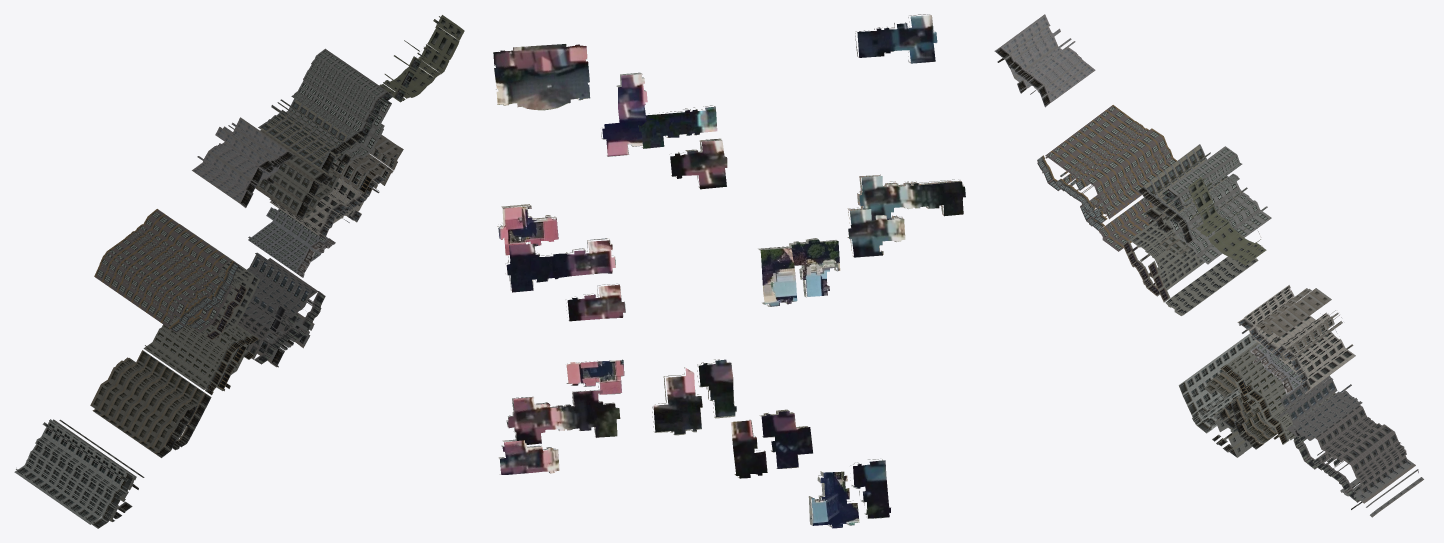
Rendered from tile_LOD4_r3_c15.glb.
3 renders of one model, left to right at view 1: azimuth 30°, elevation 25°; view 2: azimuth 150°, elevation 25°; view 3: azimuth 270°, elevation 25°, orthographic. The views are drawn at different scales.
Bounding box in the file's own units: 177 × 180 × 163.
70 materials, 70 textured.
